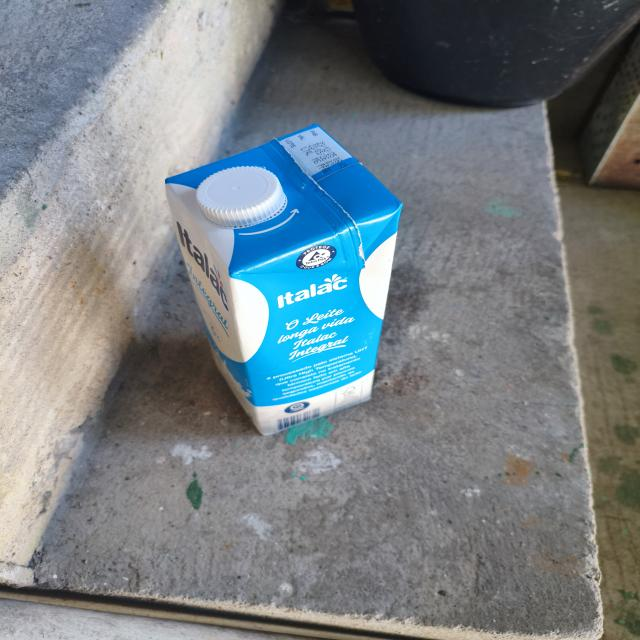Caixa de Leite: (160, 124, 384, 444)
